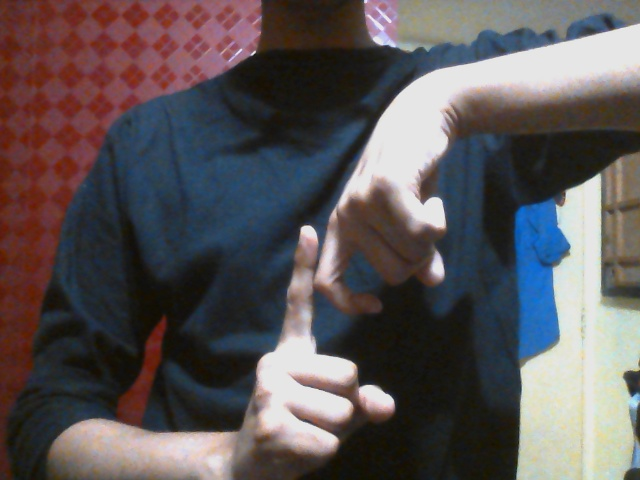K: (236, 169, 445, 471)
